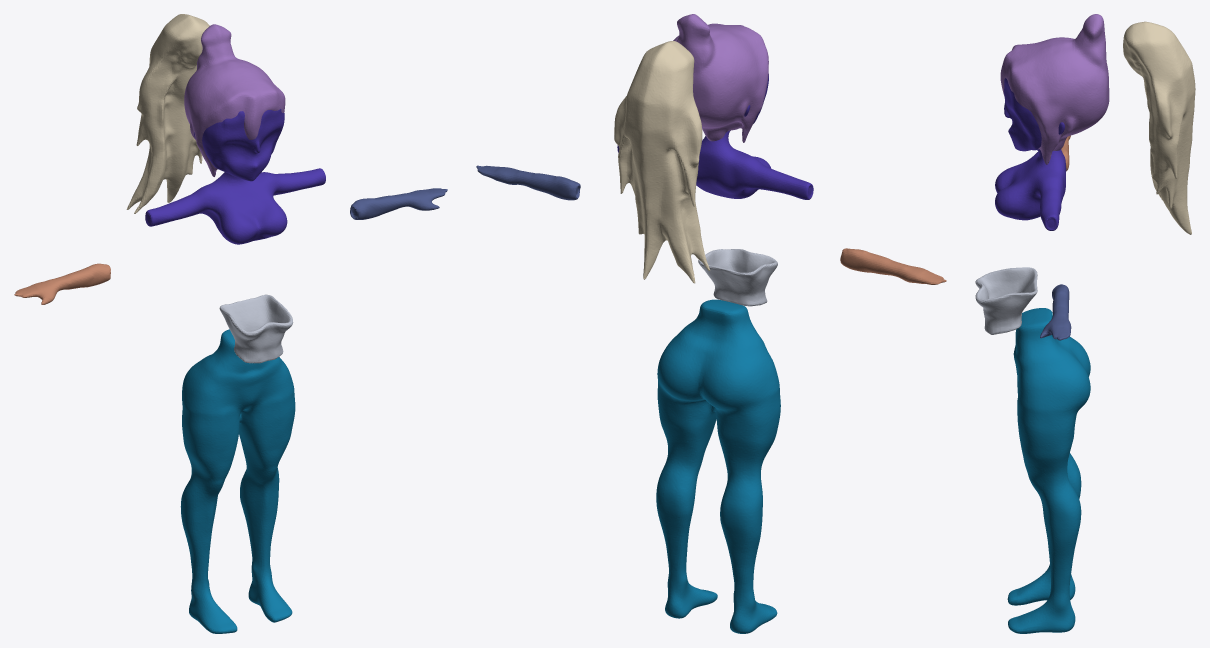
File: train_cfg_-1.000000_explode_boxgpt_jace0_clean_no_droplets.glb
3 renders of one model, left to right at view 1: azimuth 30°, elevation 25°; view 2: azimuth 150°, elevation 25°; view 3: azimuth 270°, elevation 25°, orthographic. The views are drawn at different scales.
Visible parts, largest first — view 1: tmpswpxp5tt.ply, tmp4qfhcoo6.ply, tmpe6_x0iul.ply, tmp0h4a0a2v.ply, tmp0kykscv0.ply, tmp9qbo4hji.ply, tmpjxcy21uw.ply; view 2: tmpswpxp5tt.ply, tmpe6_x0iul.ply, tmp0h4a0a2v.ply, tmp4qfhcoo6.ply, tmp0kykscv0.ply, tmpjxcy21uw.ply, tmp9qbo4hji.ply; view 3: tmpswpxp5tt.ply, tmp0h4a0a2v.ply, tmpe6_x0iul.ply, tmp4qfhcoo6.ply, tmp0kykscv0.ply, tmp9qbo4hji.ply.
Boxes of the visible parts, x1,y1,x2,y2 form: tmpswpxp5tt.ply: (180,329,295,633); tmp4qfhcoo6.ply: (145,109,325,244); tmpe6_x0iul.ply: (126,14,209,213); tmp0h4a0a2v.ply: (184,24,285,176); tmp0kykscv0.ply: (219,294,293,363); tmp9qbo4hji.ply: (350,188,447,219); tmpjxcy21uw.ply: (14,263,110,304); tmpswpxp5tt.ply: (656,299,780,633); tmpe6_x0iul.ply: (614,41,710,283); tmp0h4a0a2v.ply: (673,14,768,142); tmp4qfhcoo6.ply: (617,74,813,199); tmp0kykscv0.ply: (698,249,777,306); tmpjxcy21uw.ply: (840,248,946,284); tmp9qbo4hji.ply: (476,165,580,200); tmpswpxp5tt.ply: (1007,308,1090,633); tmp0h4a0a2v.ply: (1000,14,1109,164); tmpe6_x0iul.ply: (1123,21,1195,234); tmp4qfhcoo6.ply: (995,78,1066,230); tmp0kykscv0.ply: (975,267,1037,334); tmp9qbo4hji.ply: (1040,284,1071,340).
Size of the model in its own units: 1.85 by 2.35 by 0.7783.
